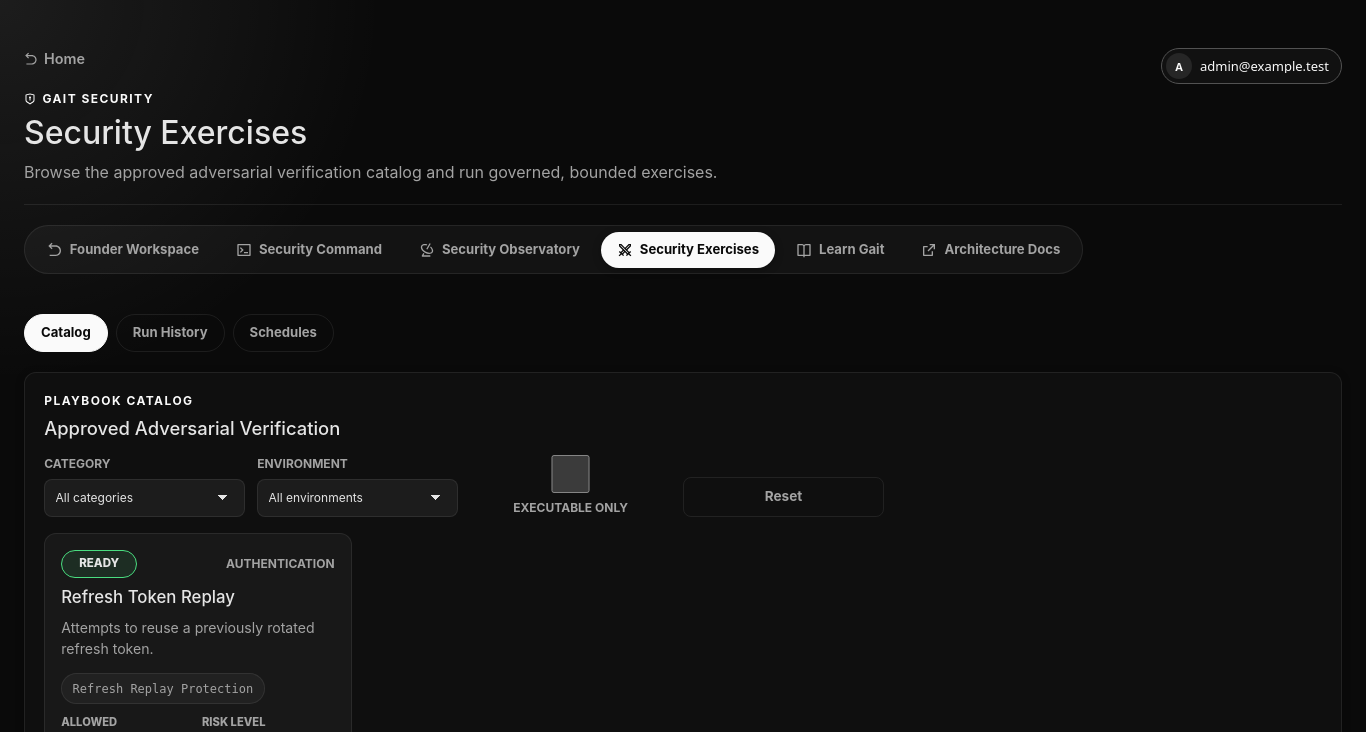
Test: Schedule list rendering › a schedules API failure does not blank the catalog or run history tabs
Expected: the heading "Refresh Token Replay" is shown, [61, 587, 235, 607]
Click the button "Run History" at (170, 333), box [116, 314, 225, 352]
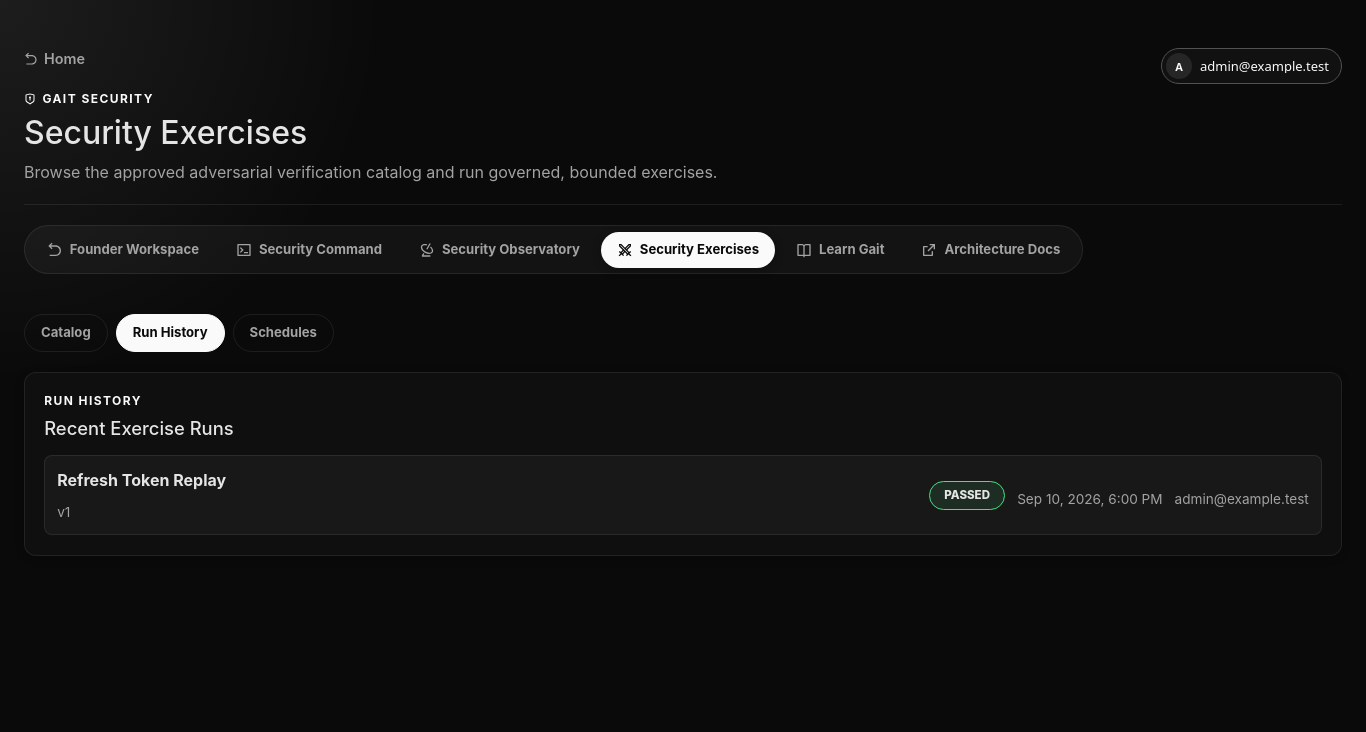
Expected: the text "Refresh Token Replay" is shown, [57, 470, 226, 490]
Click the button "Schedules" at (283, 333), box [232, 314, 334, 352]
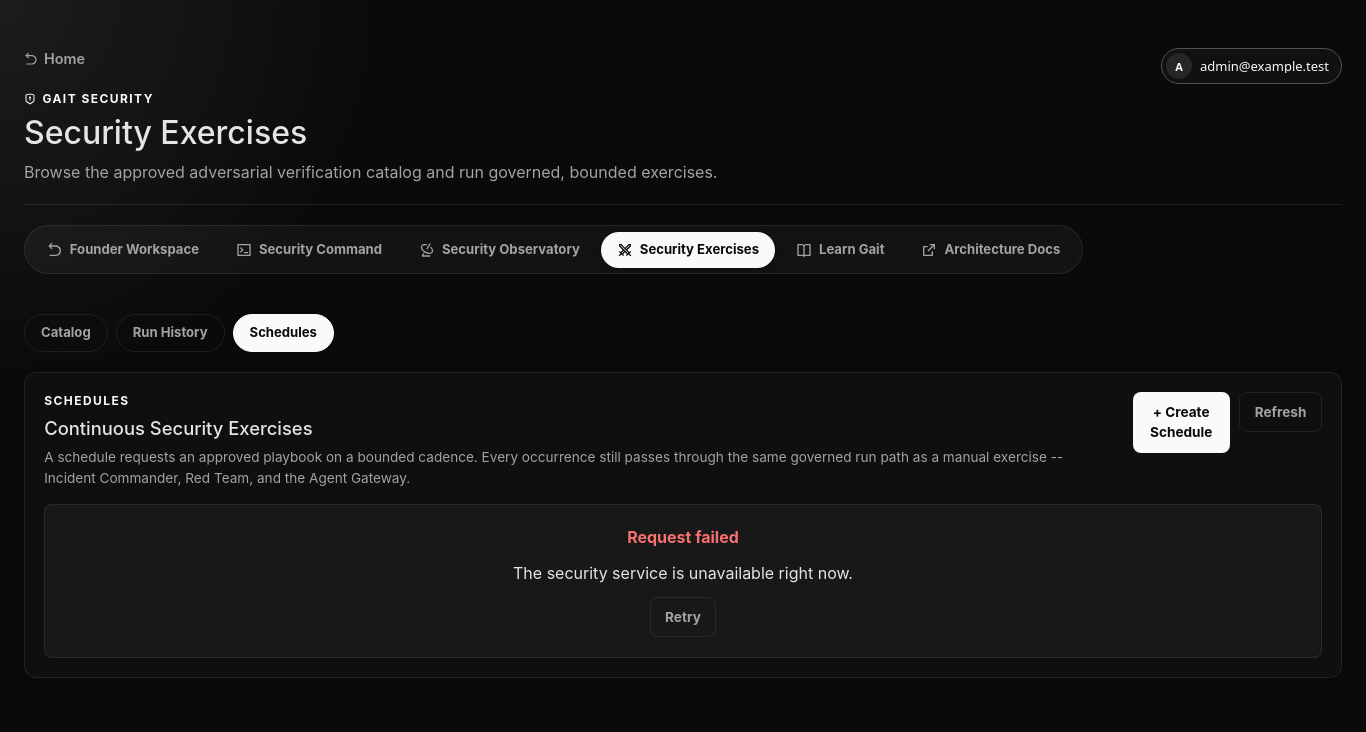
Expected: the message "Request failed The security service is unavailable right now. Retry" is shown, [44, 504, 1322, 658]
